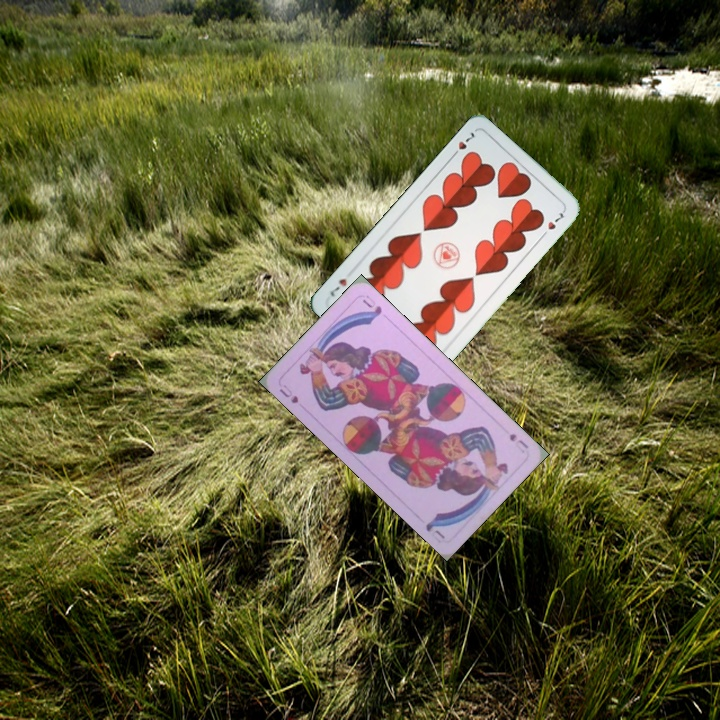H7: (447, 128, 477, 160)
SU: (505, 429, 531, 456), (275, 380, 301, 406)
